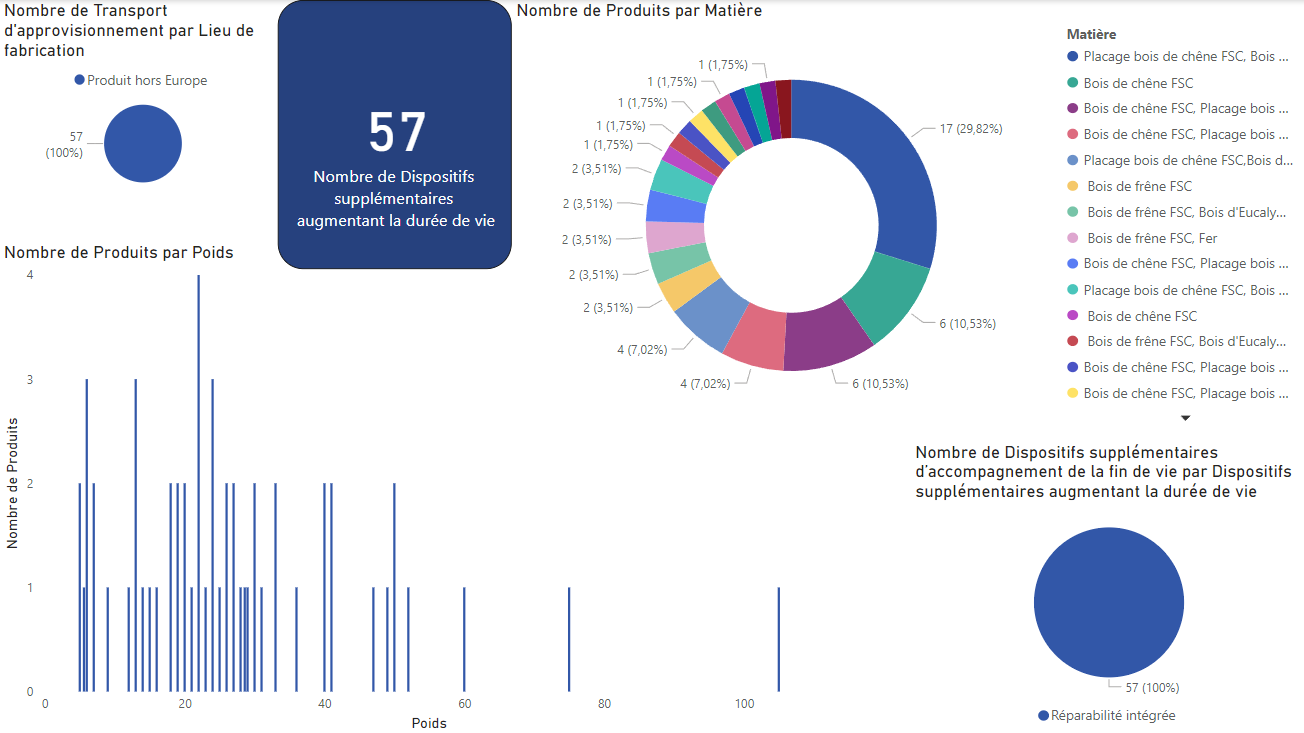

What the dashboard file says about the page in this screenshot:
{"tool":"powerbi","page":{"name":"Page 1","canvas":[1280,720],"ordinal":0},"visuals":[{"type":"pieChart","fields":{"Category":["ma_collection.Lieu de fabrication"],"Y":["CountNonNull(ma_collection.Transport d'approvisionnement)"]},"box":[0,0,281.5,193.6],"z":0},{"type":"donutChart","fields":{"Category":["ma_collection.Matière"],"Y":["CountNonNull(ma_collection.Produits)"]},"box":[501.2,0,778.7,421.7],"z":1000},{"type":"columnChart","fields":{"Category":["ma_collection.Poids"],"Y":["CountNonNull(ma_collection.Produits)"]},"box":[0,235.9,812.9,484.1],"z":2000},{"type":"pieChart","fields":{"Y":["CountNonNull(ma_collection. Dispositifs supplémentaires d’accompagnement de la fin de vie)"],"Category":["ma_collection.Dispositifs supplémentaires augmentant la durée de vie"]},"box":[891.1,431.5,388.7,287.3],"z":3000},{"type":"card","fields":{"Values":["CountNonNull(ma_collection.Dispositifs supplémentaires augmentant la durée de vie)"]},"box":[272.6,0,228.6,262.8],"z":4000}]}

Visuals, with their boxes in screenshot pixels (x1, y1, x2, y2), scaled from the page's 1280x720 canvas onto the 1304x733 screenshot:
pieChart - ma_collection.Lieu de fabrication x CountNonNull(ma_collection.Transport d'approvisionnement): bbox(0, 0, 287, 197)
donutChart - ma_collection.Matière x CountNonNull(ma_collection.Produits): bbox(511, 0, 1303, 429)
columnChart - ma_collection.Poids x CountNonNull(ma_collection.Produits): bbox(0, 240, 828, 732)
pieChart - CountNonNull(ma_collection. Dispositifs supplémentaires d’accompagnement de la fin de vie) x ma_collection.Dispositifs supplémentaires augmentant la durée de vie: bbox(908, 439, 1303, 732)
card - CountNonNull(ma_collection.Dispositifs supplémentaires augmentant la durée de vie): bbox(278, 0, 511, 268)
